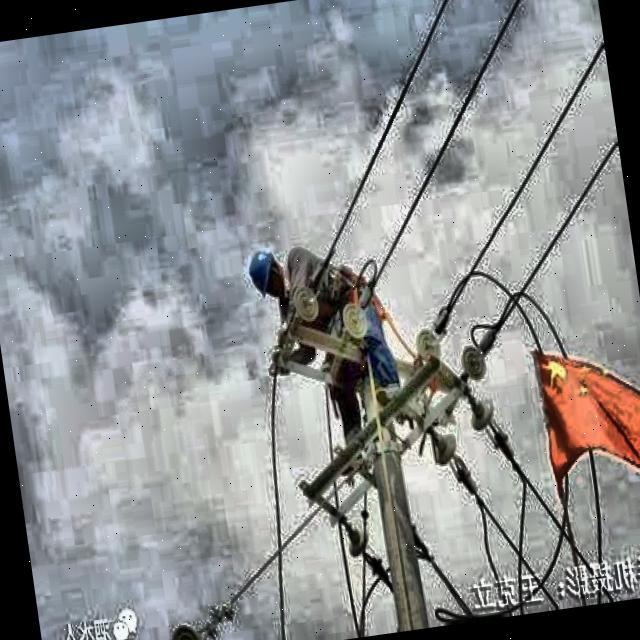helmet: (241, 244, 290, 306)
